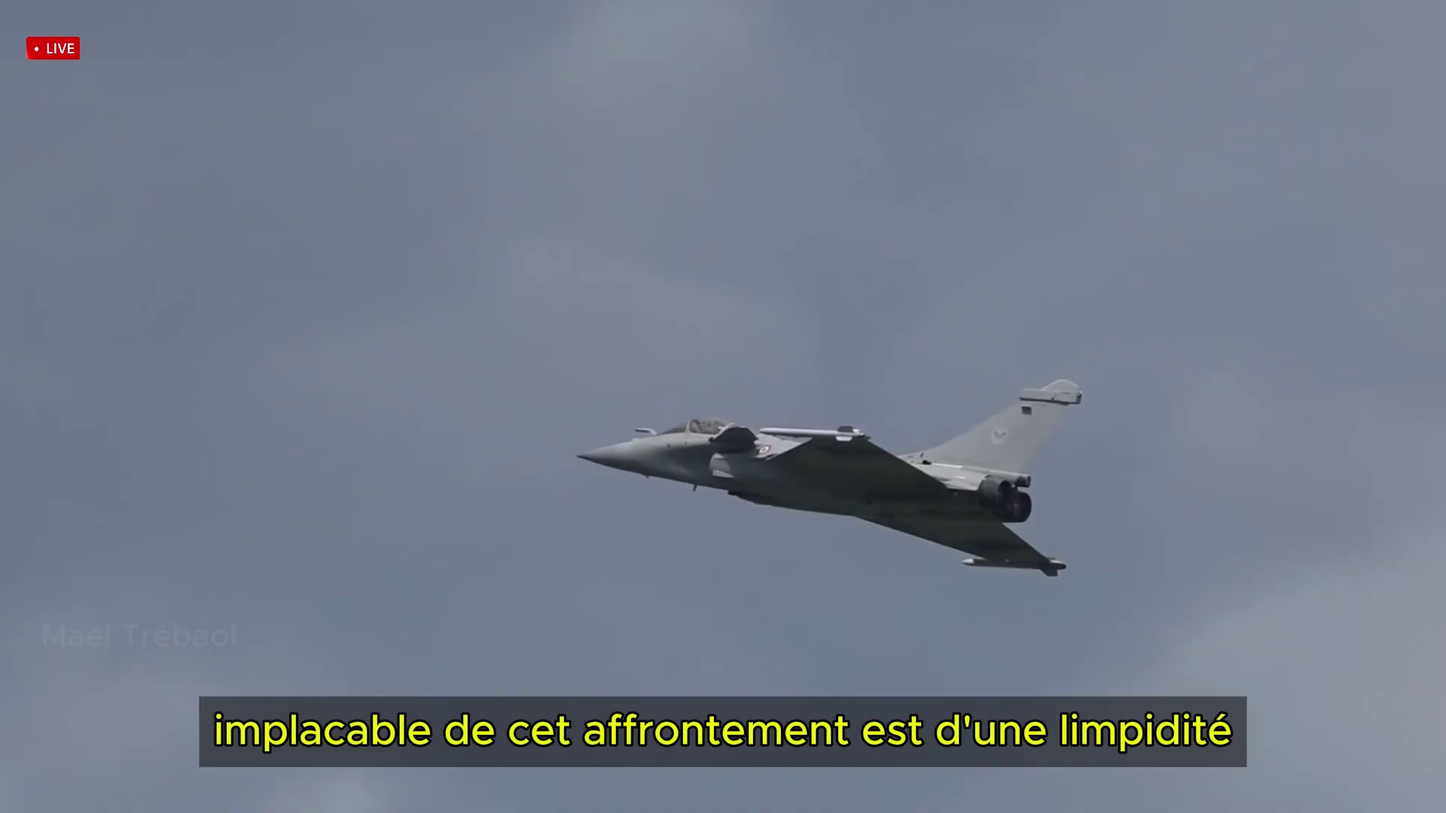Rafale: (572, 381, 1080, 577)
